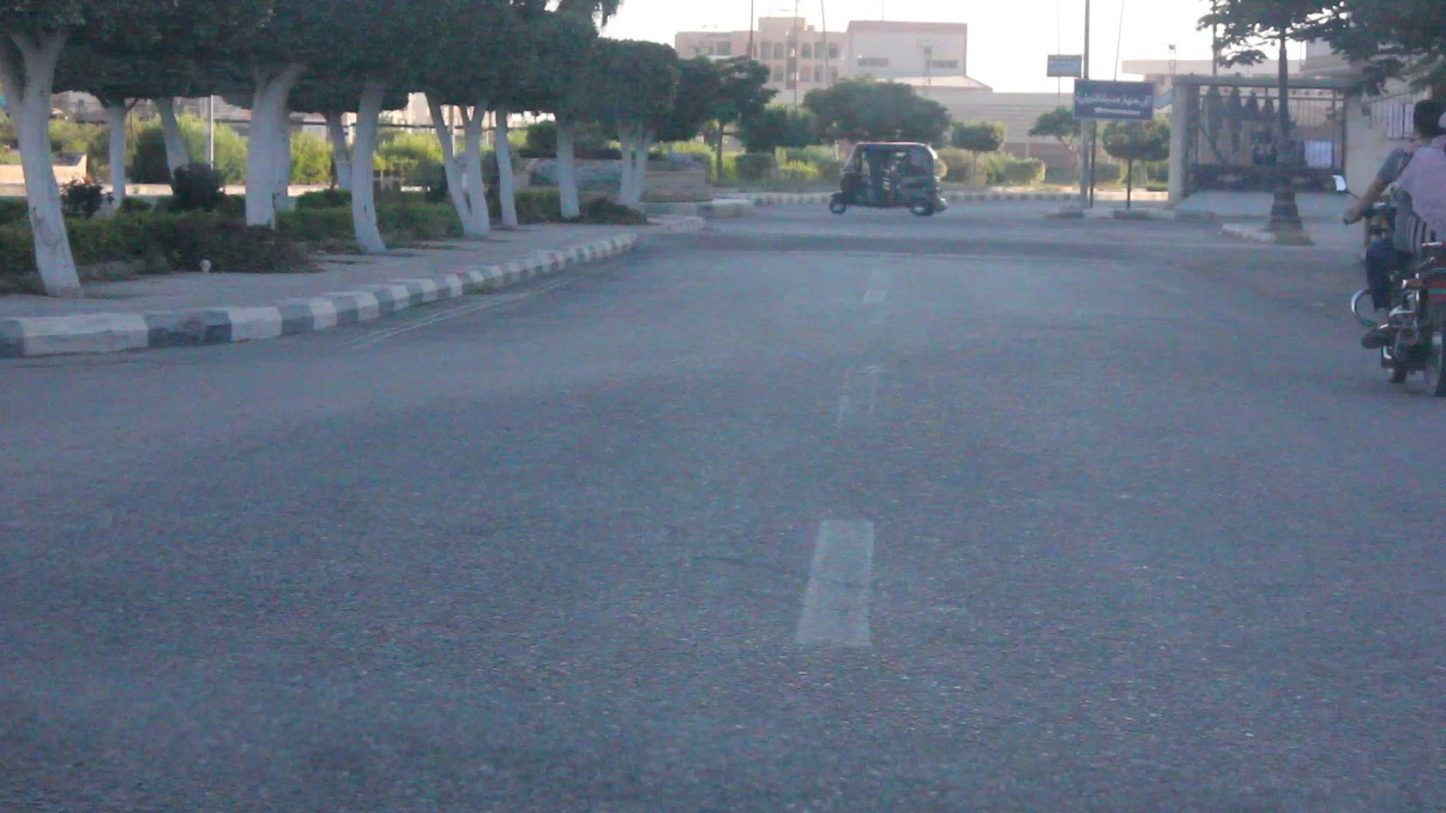Bump: (661, 228, 1292, 271)
